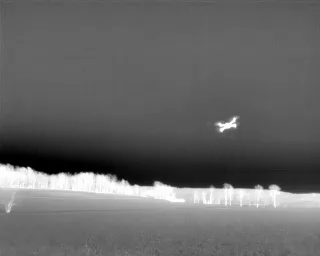DRONE: (211, 111, 244, 139)
